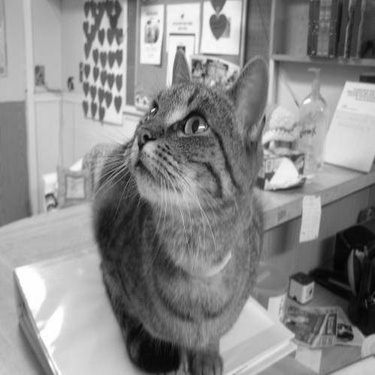cat: (90, 40, 266, 369)
